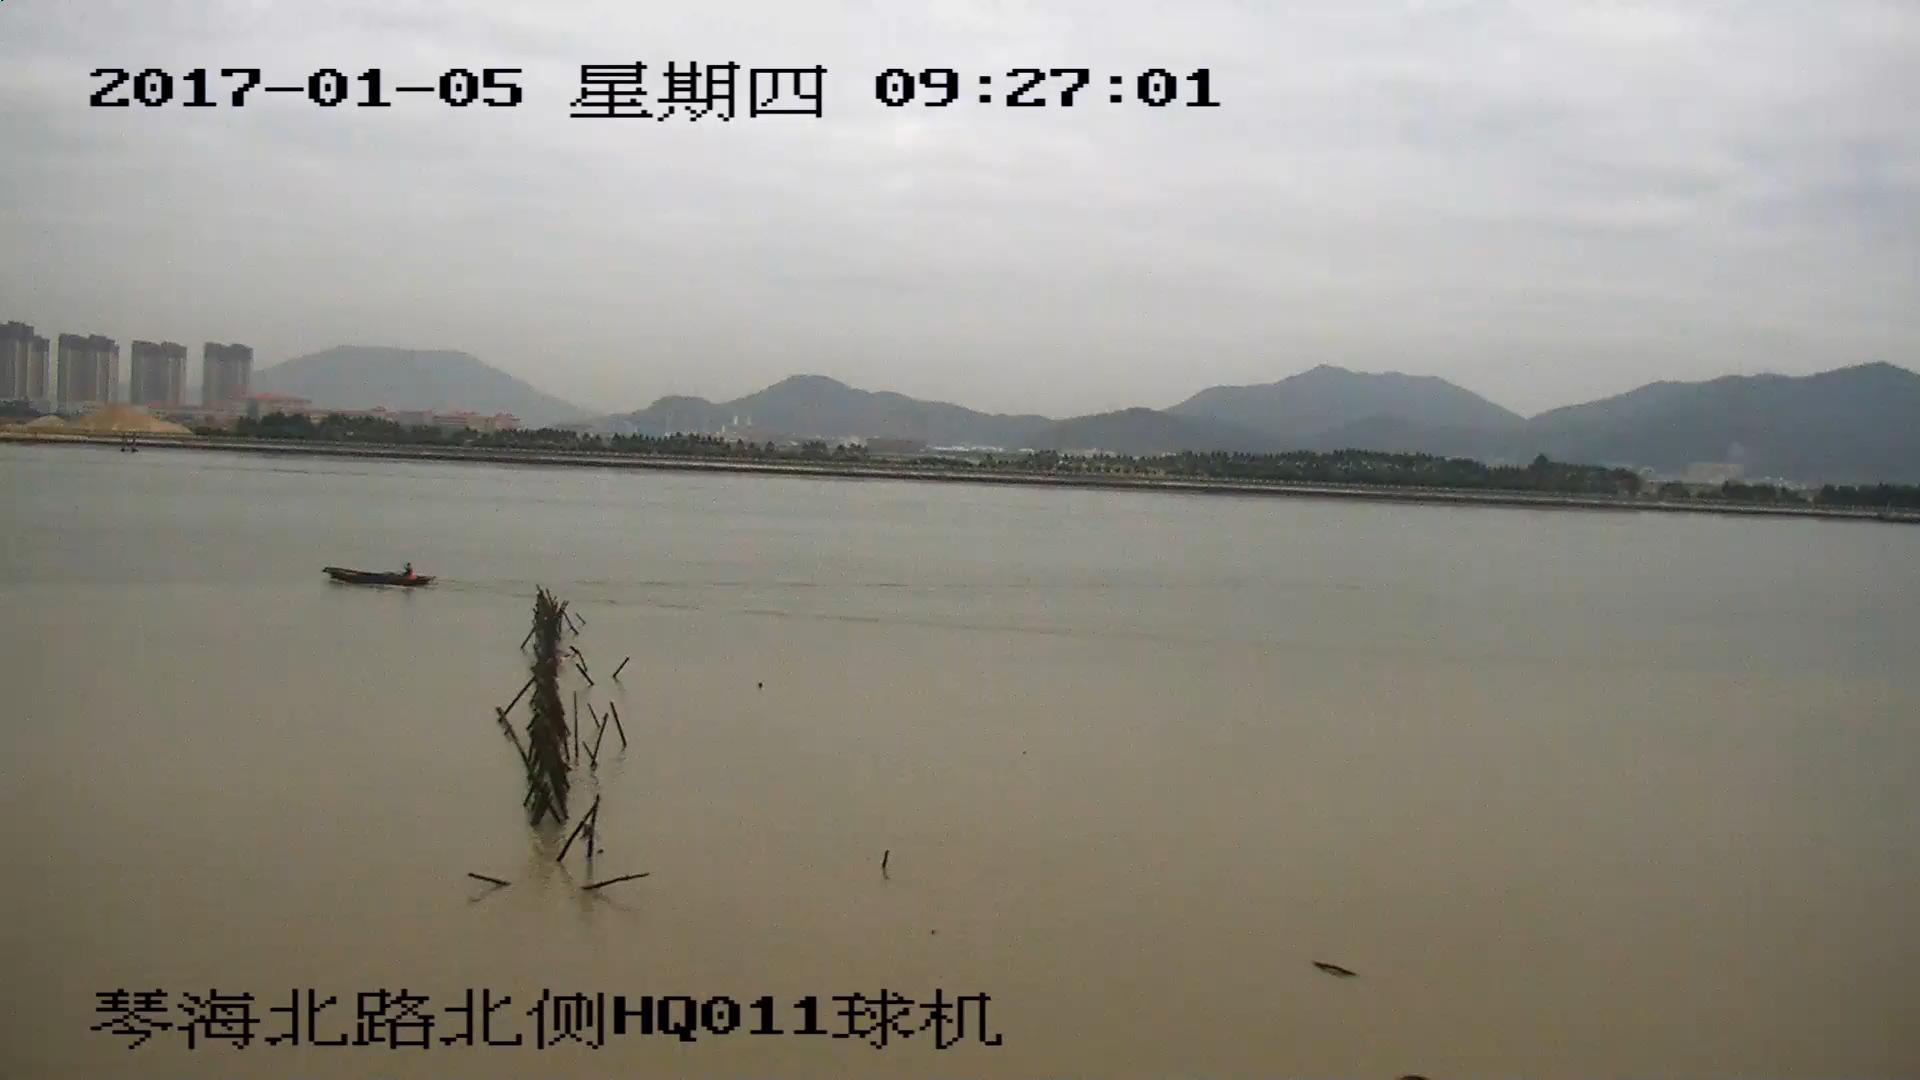fishing boat: (324, 560, 433, 586)
